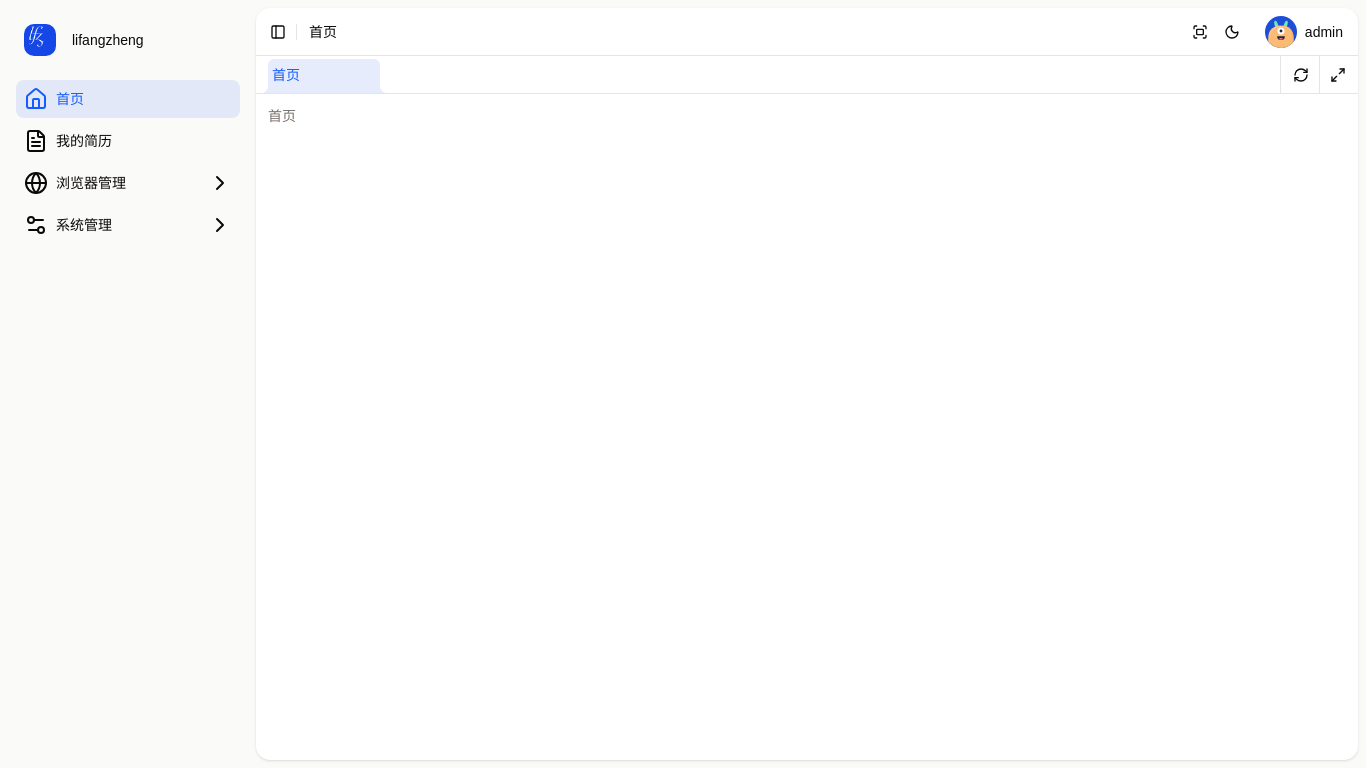
Header › 点击编辑进入编辑资料视图，保存后昵称与性别可更新
The width and height of the screenshot is (1366, 768).
Expected: the button named "全屏" is shown, top-left (1186, 18), bottom-right (1214, 46)
Click the button "admin". click: click(1304, 32)
box: top-left (1258, 14), bottom-right (1350, 50)
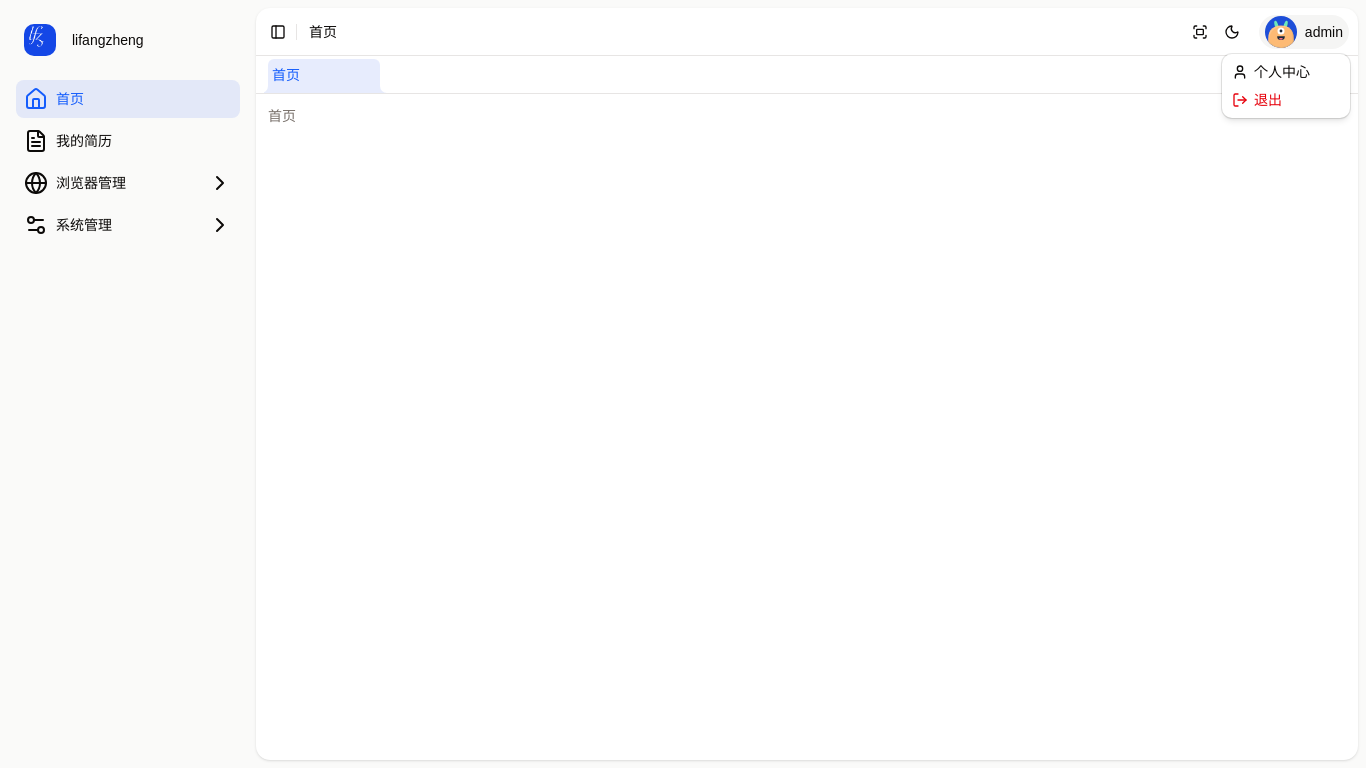
Click the menu item "个人中心". click: click(1271, 72)
box: top-left (1232, 64), bottom-right (1310, 80)
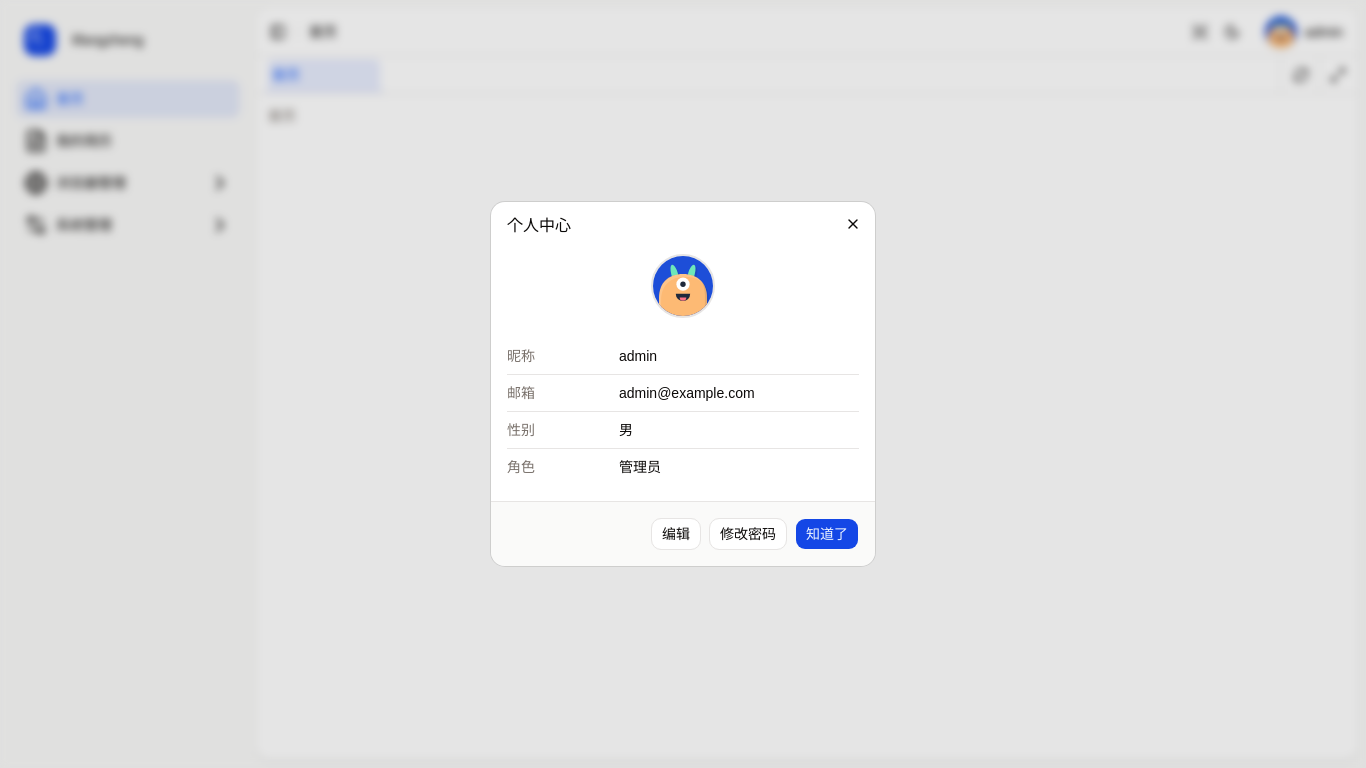
Note: 点击编辑，进入编辑资料视图
Click the button "编辑". click: click(676, 534)
box: top-left (651, 518), bottom-right (701, 550)
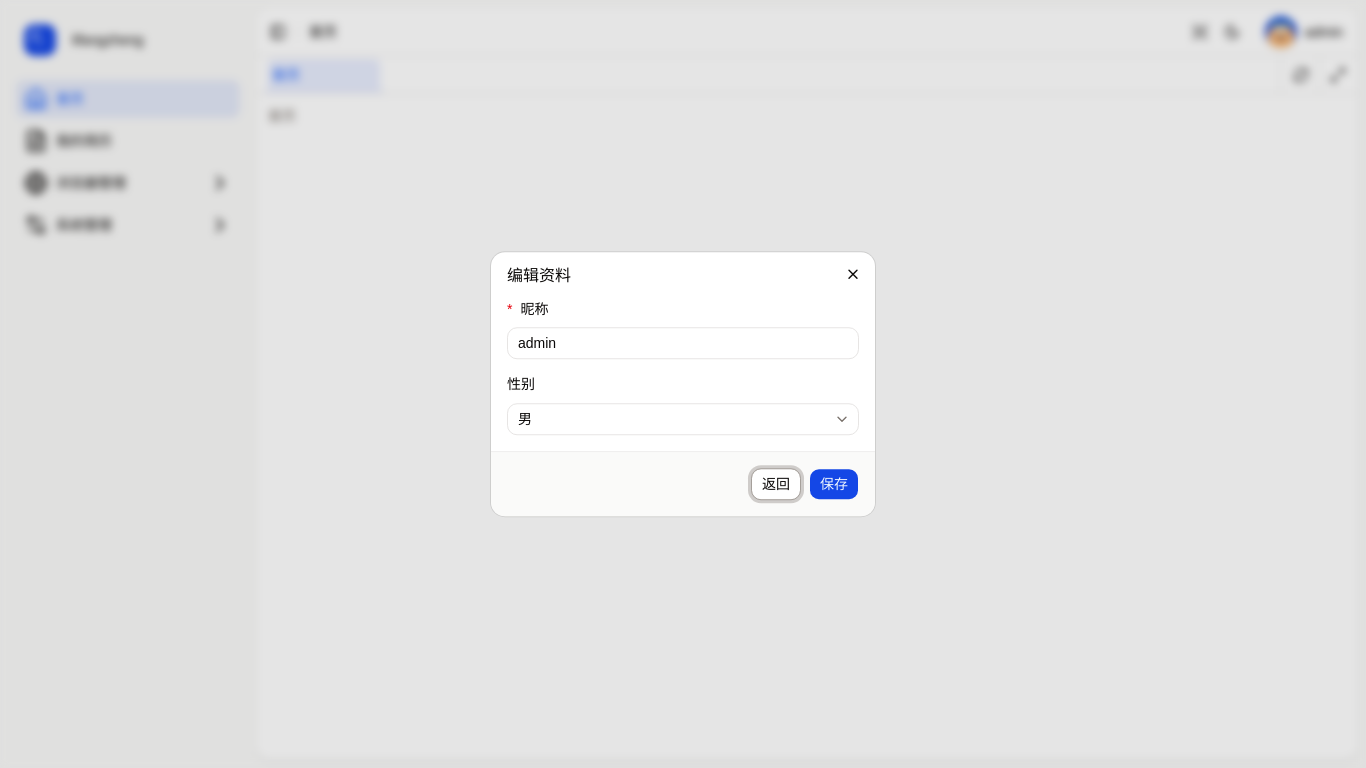
Now the text "男" is shown, box top-left (518, 411), bottom-right (532, 427)
Now the dialog shows "编辑资料", box top-left (507, 267), bottom-right (571, 284)
Now the field labelled "* 昵称" holds "admin"
Note:  修改昵称并保存
Replace the text in the field labelled "* 昵称" with "admin-new". click: (683, 344)
box: top-left (507, 328), bottom-right (859, 360)
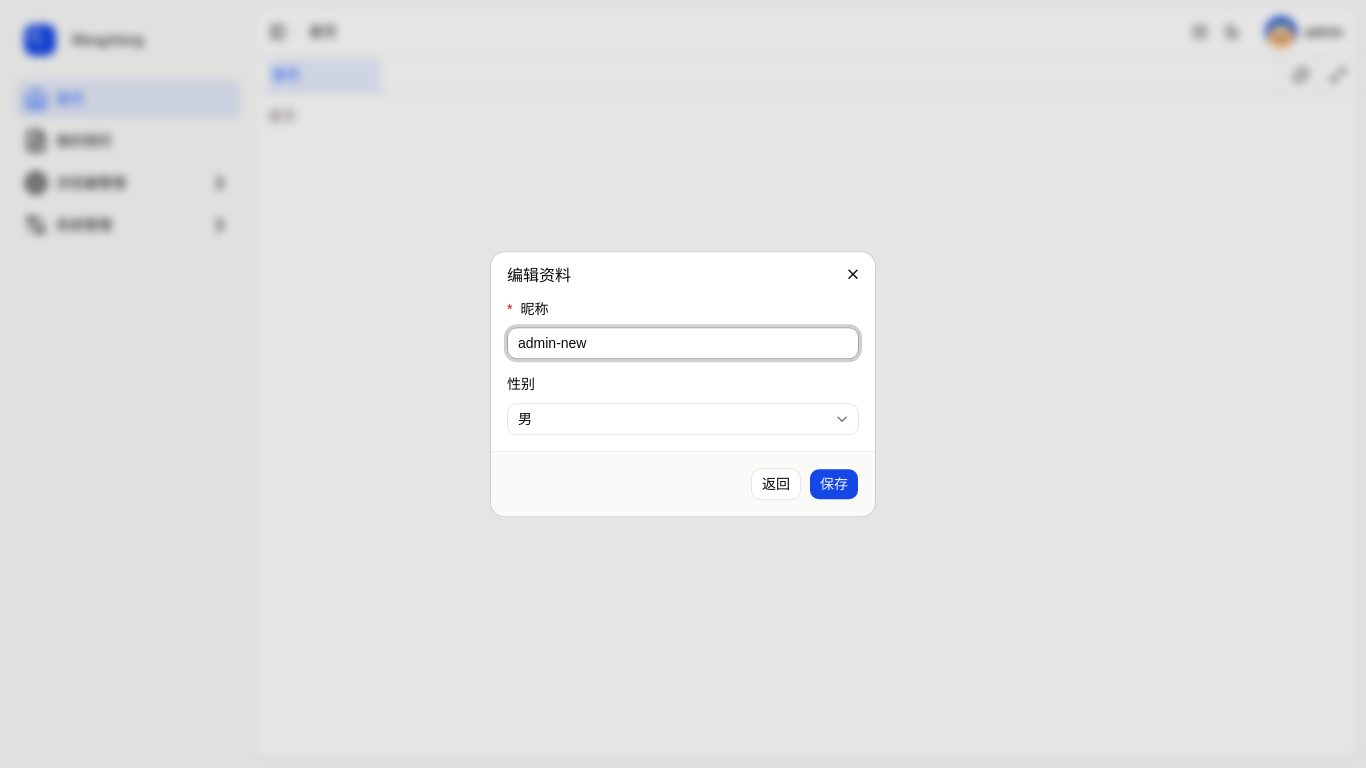
Click the button "保存". click: click(834, 484)
box: top-left (809, 468), bottom-right (859, 500)
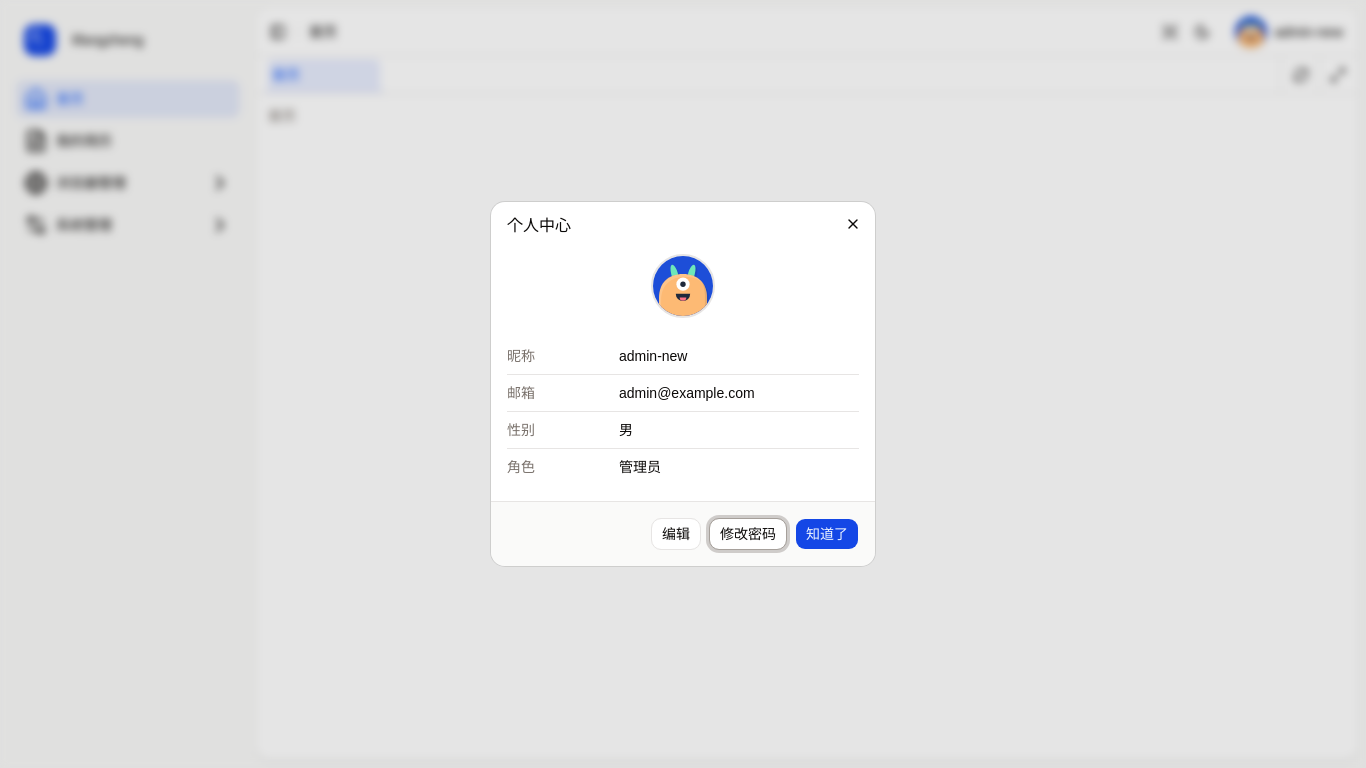
Now the dialog shows "个人中心", box top-left (507, 217), bottom-right (571, 234)
Now the dialog shows "admin-new", box top-left (619, 348), bottom-right (688, 364)
